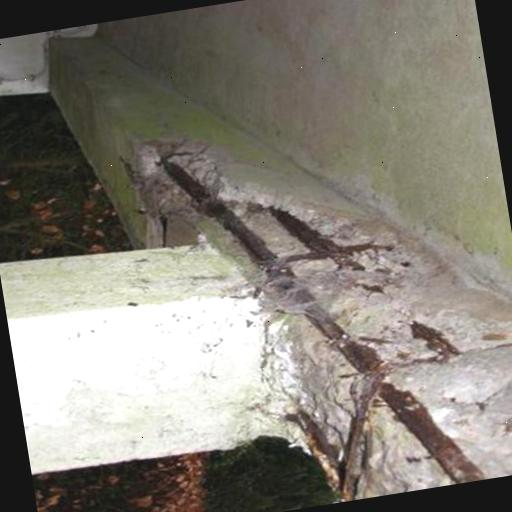spalling: (144, 138, 512, 498)
